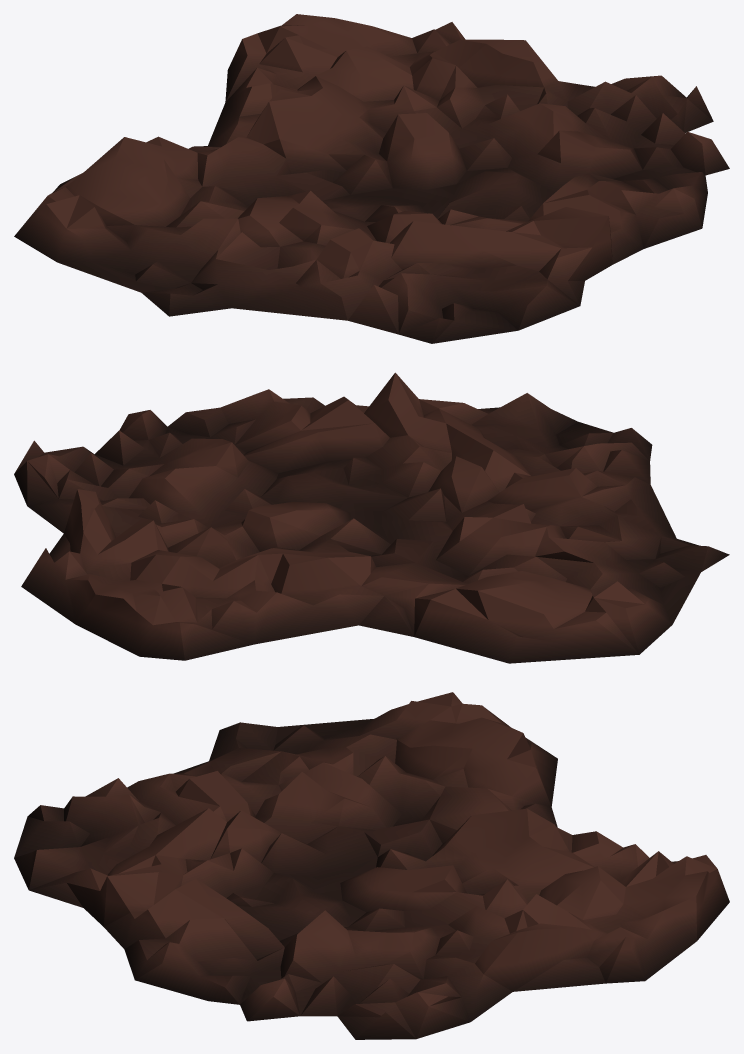
File: Rubble1.glb
3 renders of one model, top to bottom at view 1: azimuth 30°, elevation 25°; view 2: azimuth 150°, elevation 25°; view 3: azimuth 270°, elevation 25°, orthographic. The views are drawn at different scales.
Visible parts, largest first — view 1: Rubble1.col; view 2: Rubble1.col; view 3: Rubble1.col.
Part boxes in pixels (left/top/right/bottom): Rubble1.col: left=14, top=14, right=729, bottom=343; Rubble1.col: left=14, top=372, right=729, bottom=663; Rubble1.col: left=14, top=692, right=729, bottom=1039.
Bounding box in the file's own units: 4.27 × 0.3273 × 3.97.
Materials: 1 (1 with a texture image).
